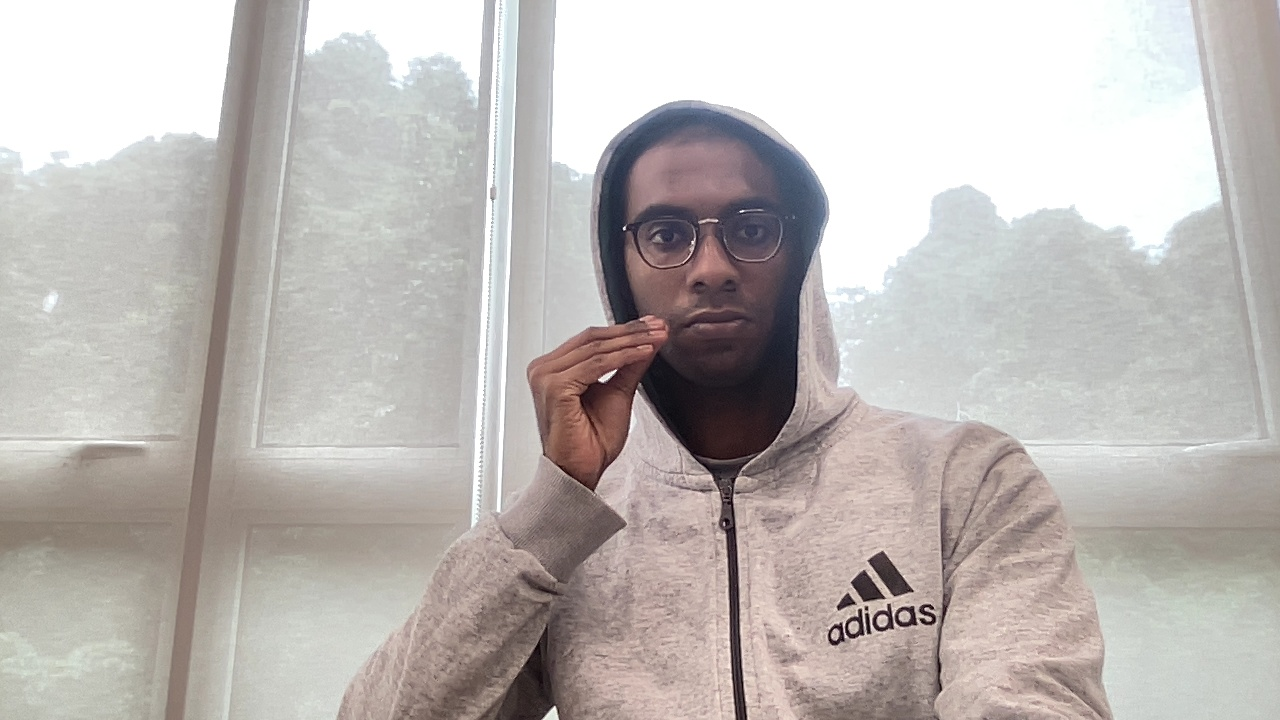eat: (522, 310, 674, 475)
